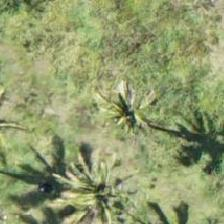coconut_tree: (83, 69, 173, 159), (56, 142, 146, 223)
